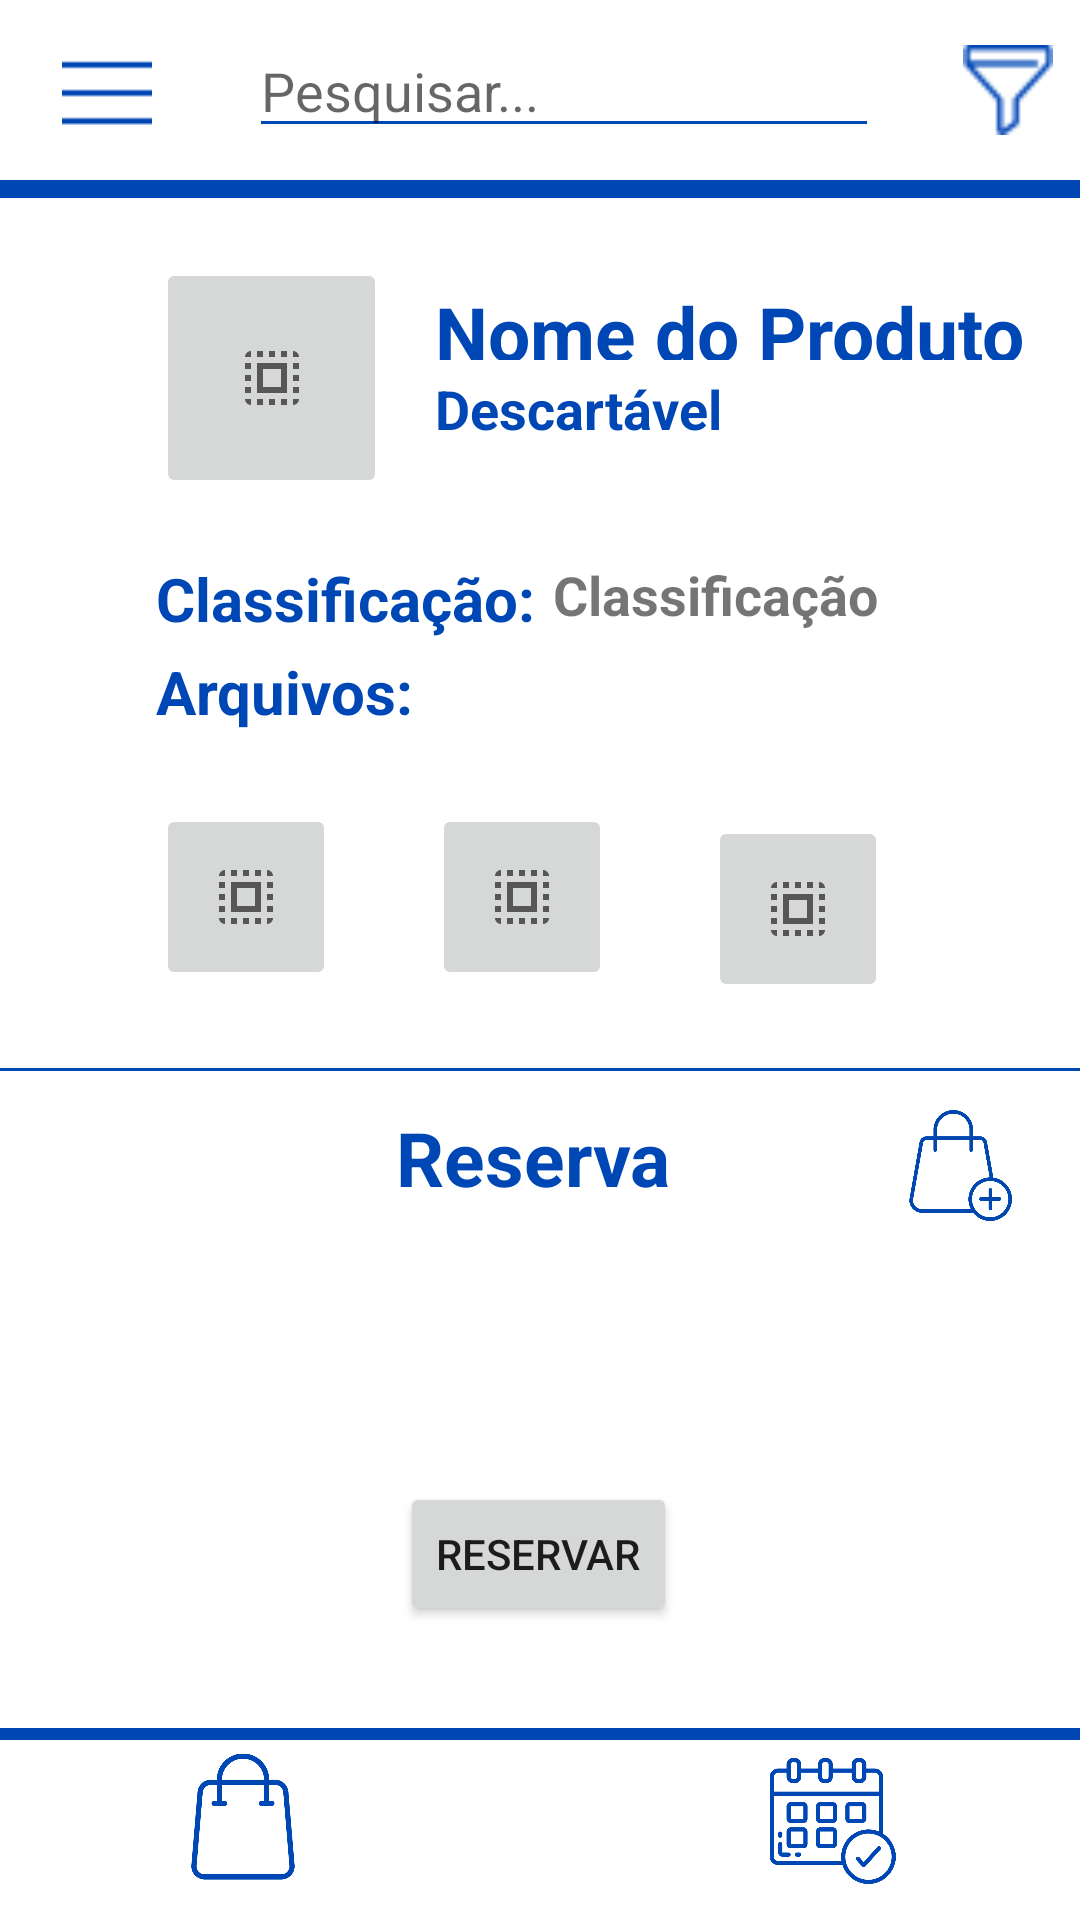

Icon bounding boxes for this 1080px x 1920px phone screenshot, format region(x1, y1, x2, y2):
bolsa de compras: region(191, 1754, 295, 1880)
data limite: region(770, 1758, 896, 1884)
filtro: region(963, 45, 1053, 135)
menu: region(62, 61, 152, 125)
sacola: region(909, 1110, 1012, 1221)
